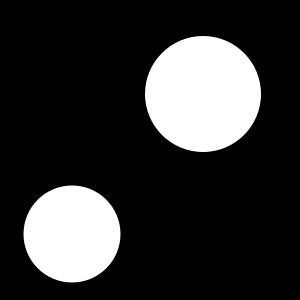rectangle: (145, 36, 261, 152), (24, 186, 120, 282)
